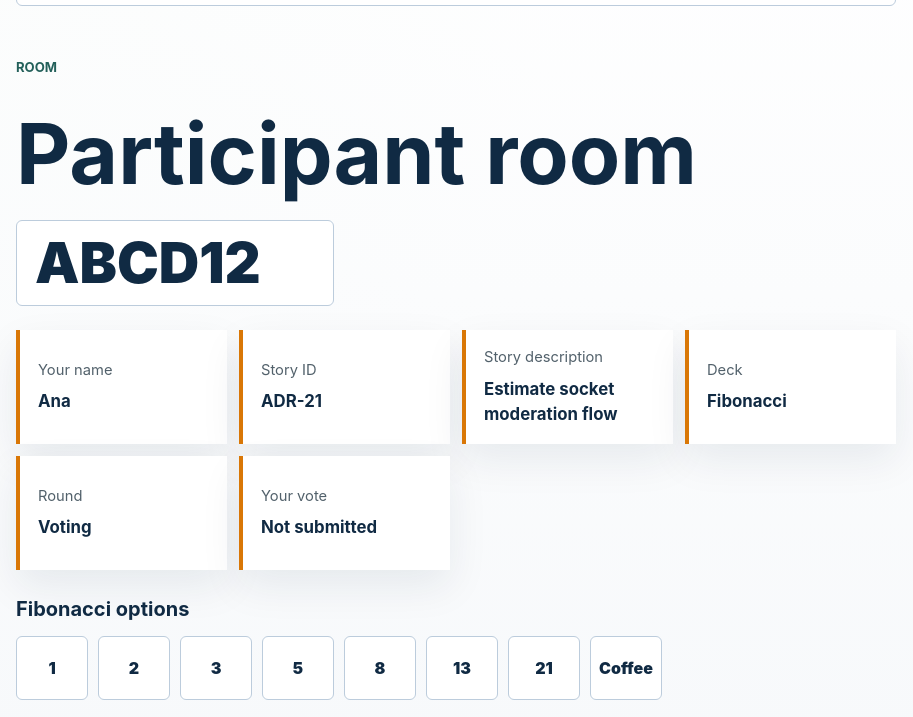
ParticipantSessionView › shows pending state and blocks overlapping vote commands
The width and height of the screenshot is (913, 717).
What coordinates should you click on to do the following:
click the button named "Submit vote 8"
I would click on:
 (380, 668)
Its box is [344, 636, 416, 700].
(page scrolled)
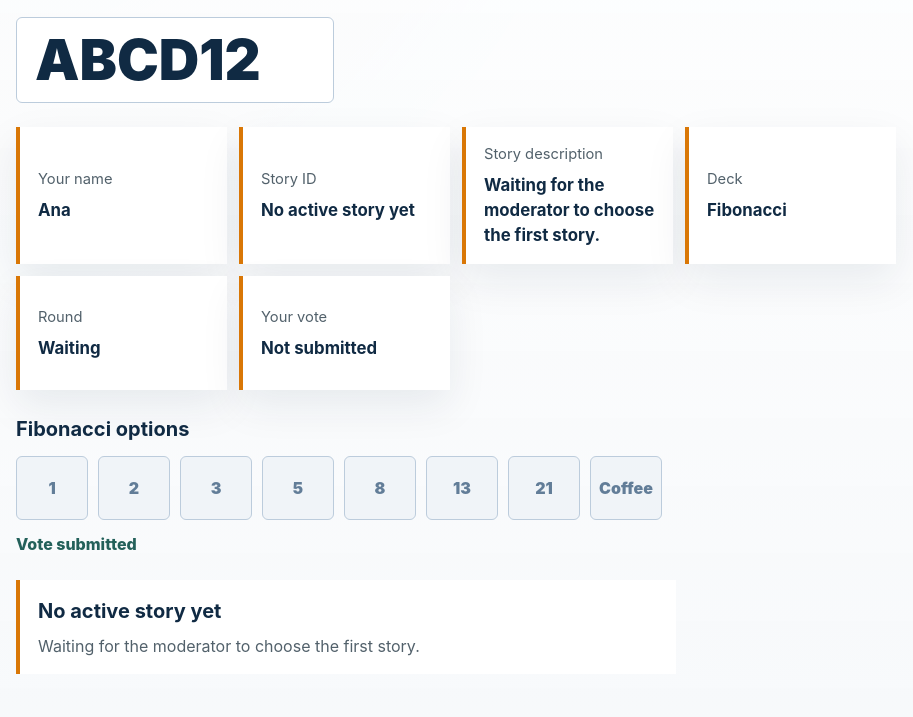
Now the button named "Submitting vote 8..." is disabled, box [344, 456, 416, 520]
Now the button named "Submit vote 5" is disabled, box [262, 456, 334, 520]
